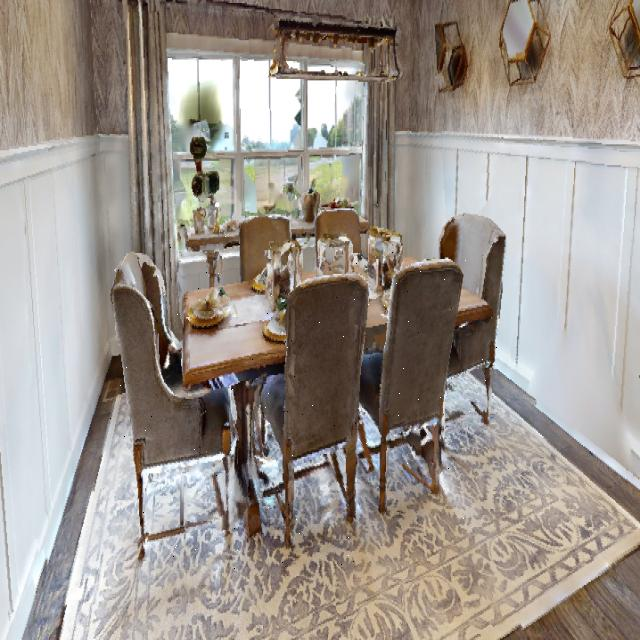chair: (107, 230, 240, 569), (252, 262, 367, 571), (356, 243, 468, 529), (432, 177, 513, 452)
table: (171, 254, 488, 518)
